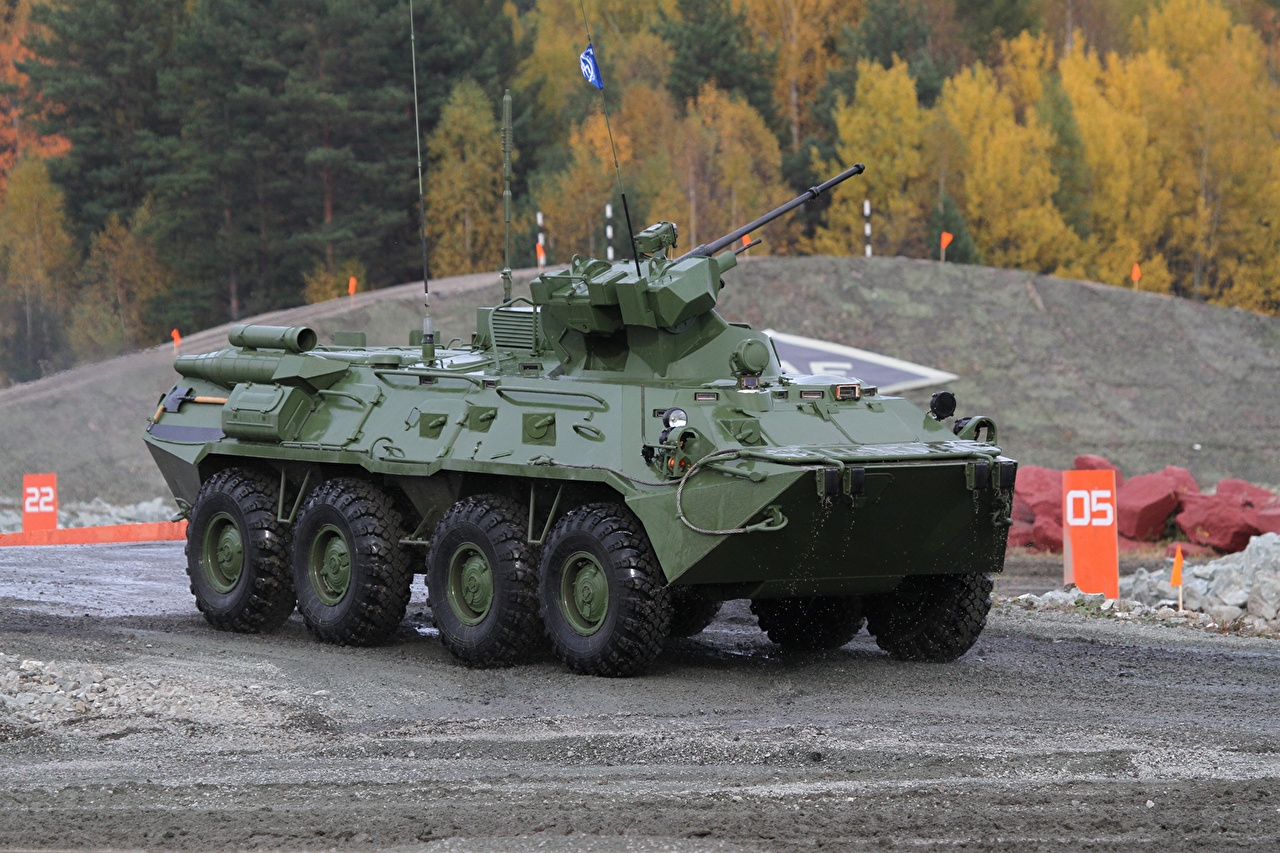btr: (142, 218, 1075, 669)
